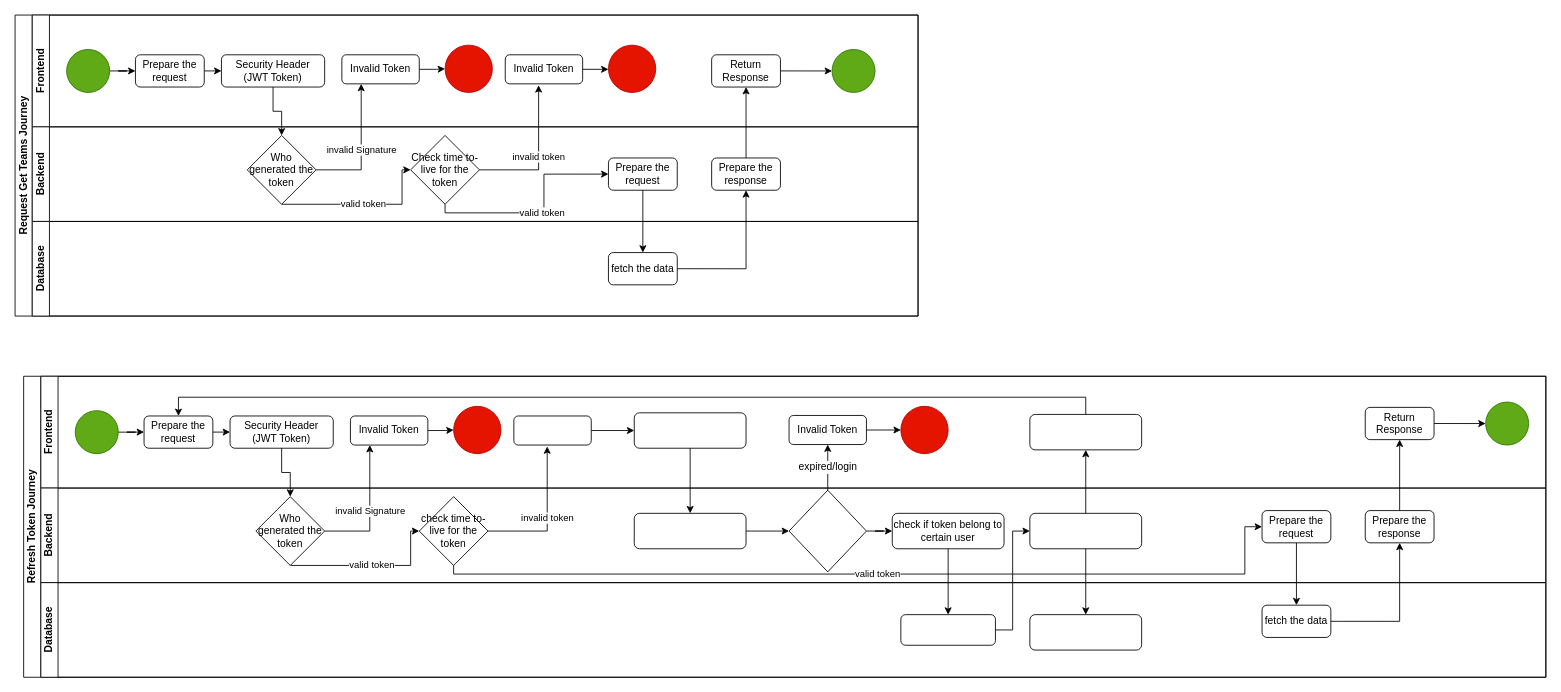
Image size: 1561x692. Some labels were removed from this diagram. The shapes that lost their labels are listed below. From the top down, each one's centre as x and y in pixels, then its label:
At (552,430): "Expired Token".
At (689,430): "request new token (refresh token/JWT token)".
At (1085,432): "return token response".
At (689,530): "check if the refresh token belong to the JWT token".
At (827,530): "check refresh token expiry".
At (1085,530): "generate new jwt token and refresh token".
At (947,629): "validate the token".
At (1085,632): "save new tokens(both tokens) in database".
